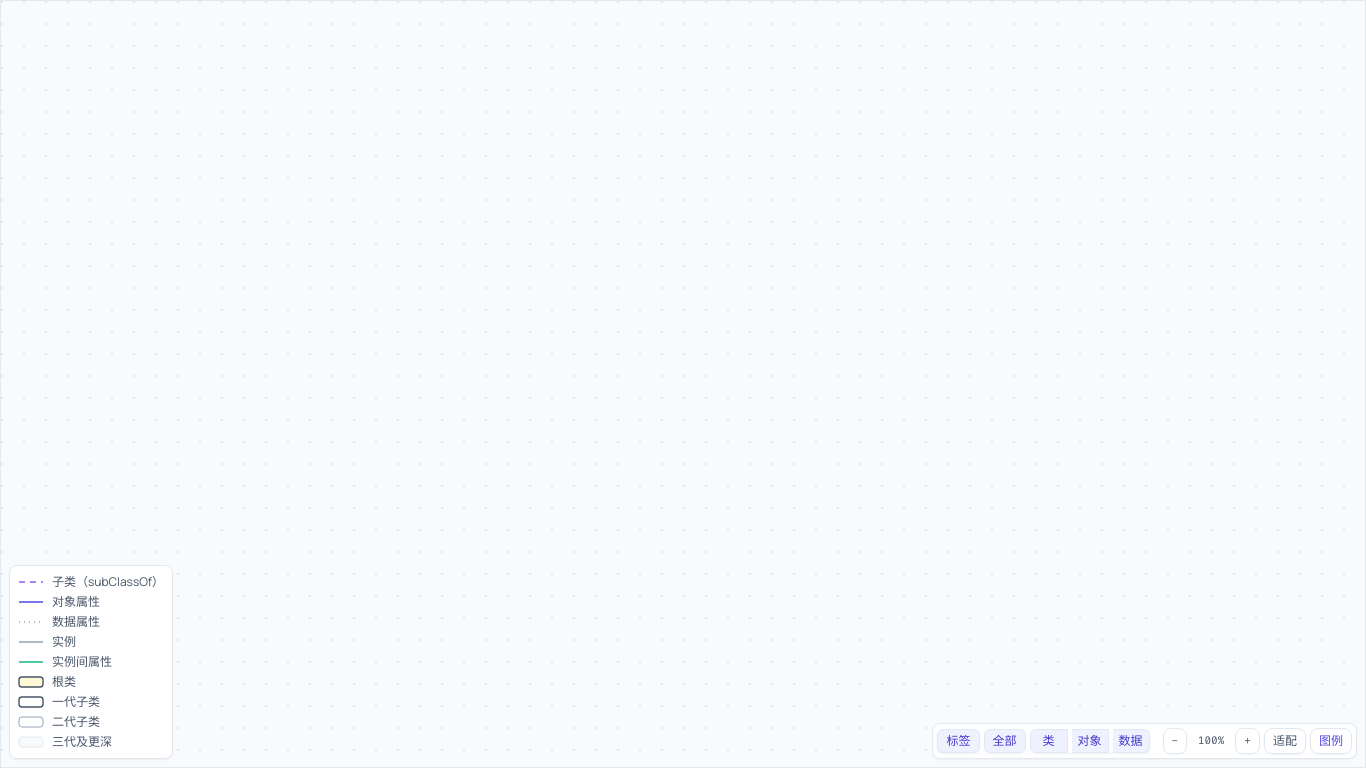
Test: GraphView › toggles the legend from the control bar
Check: the text "子类（subClassOf）" is shown, box [52, 574, 164, 590]
Click the button "图例". click: [1331, 741]
box: [1310, 728, 1352, 754]
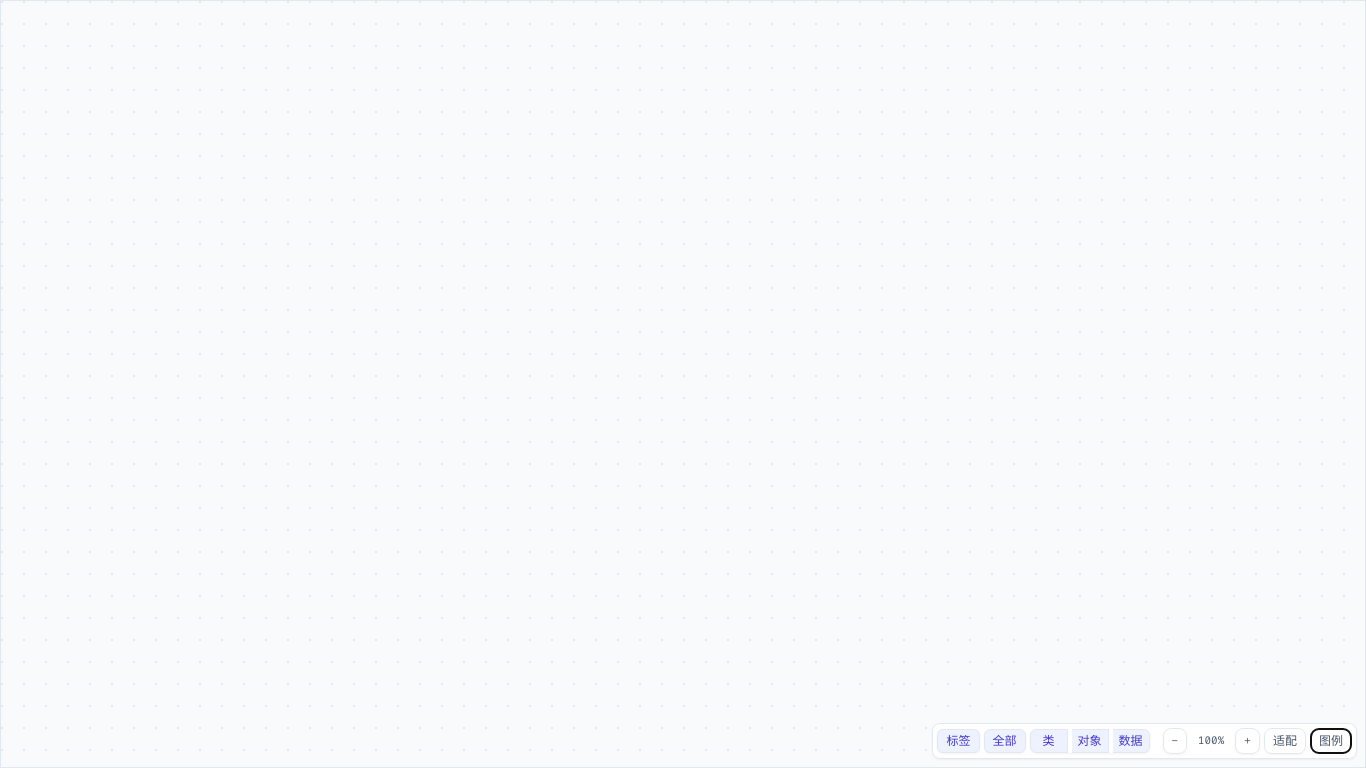
Check: the text "子类（subClassOf）" is gone
Click the button "图例". click: [1331, 741]
box: [1310, 728, 1352, 754]
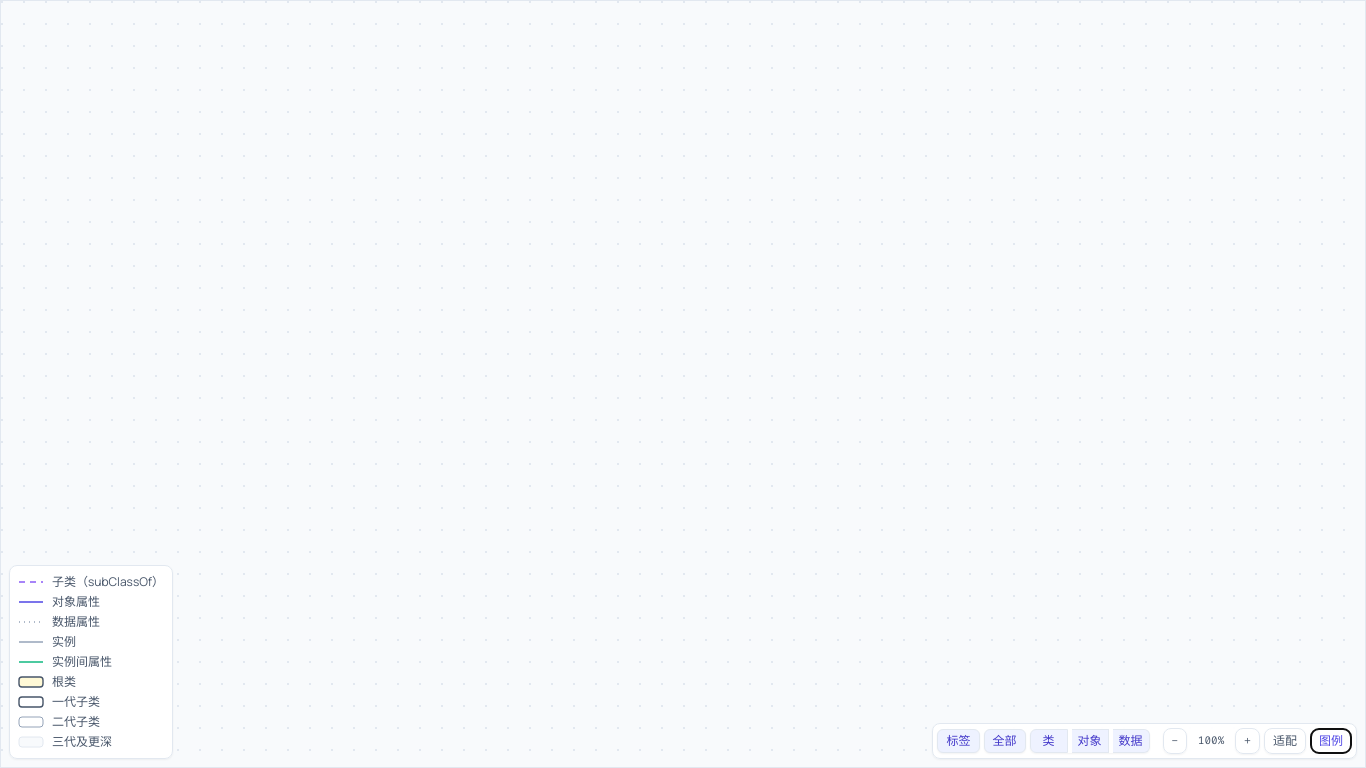
Check: the text "子类（subClassOf）" is shown, box [52, 574, 164, 590]
